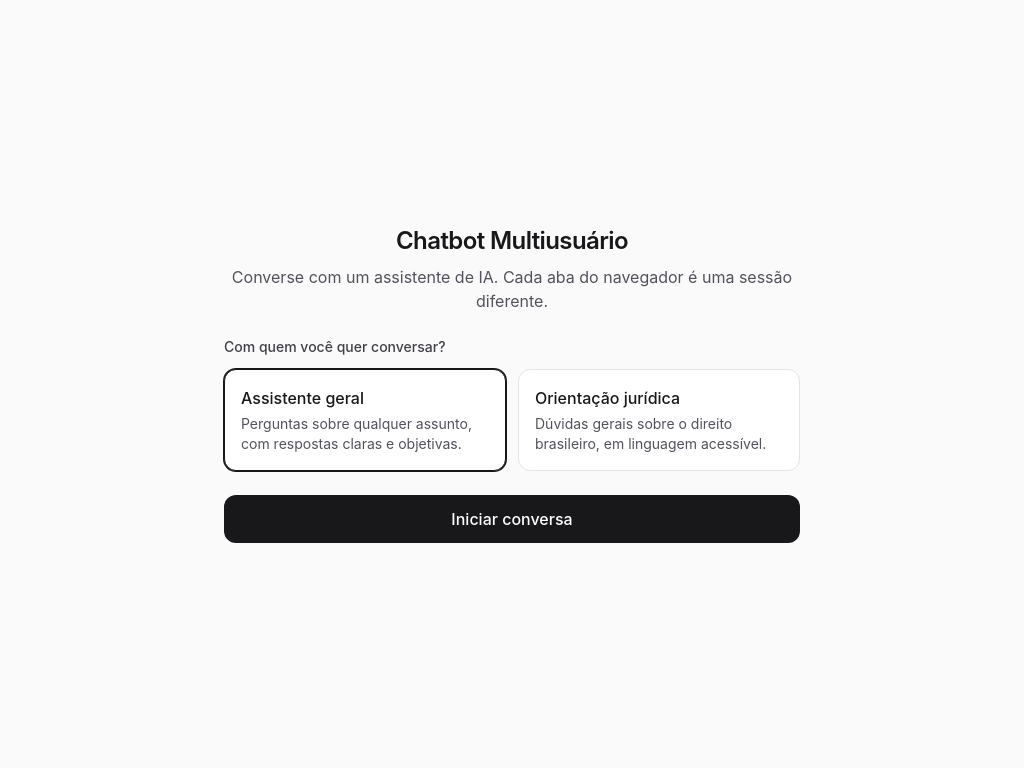
Test: erros e sessão expirada › sessionStorage bloqueado não trava o chat
Click the button "Iniciar conversa" at (512, 519), box [224,495,800,543]
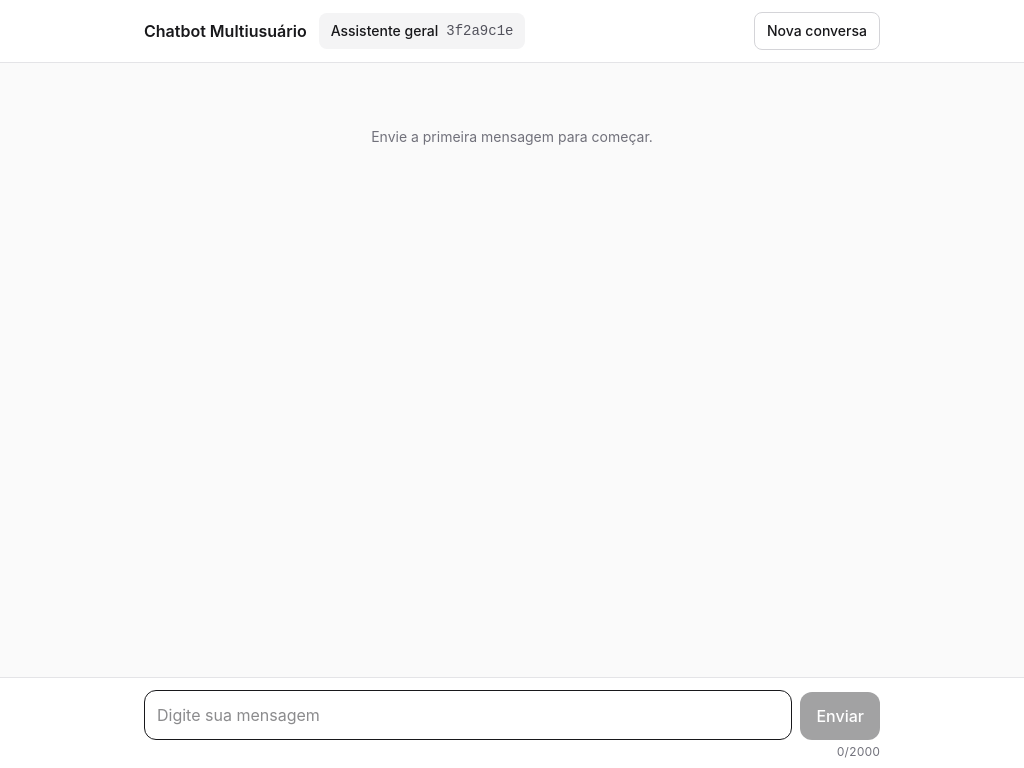
Type "Oi" into the text box labelled "mensagem" at (468, 715), box [144,690,792,740]
Then press Enter
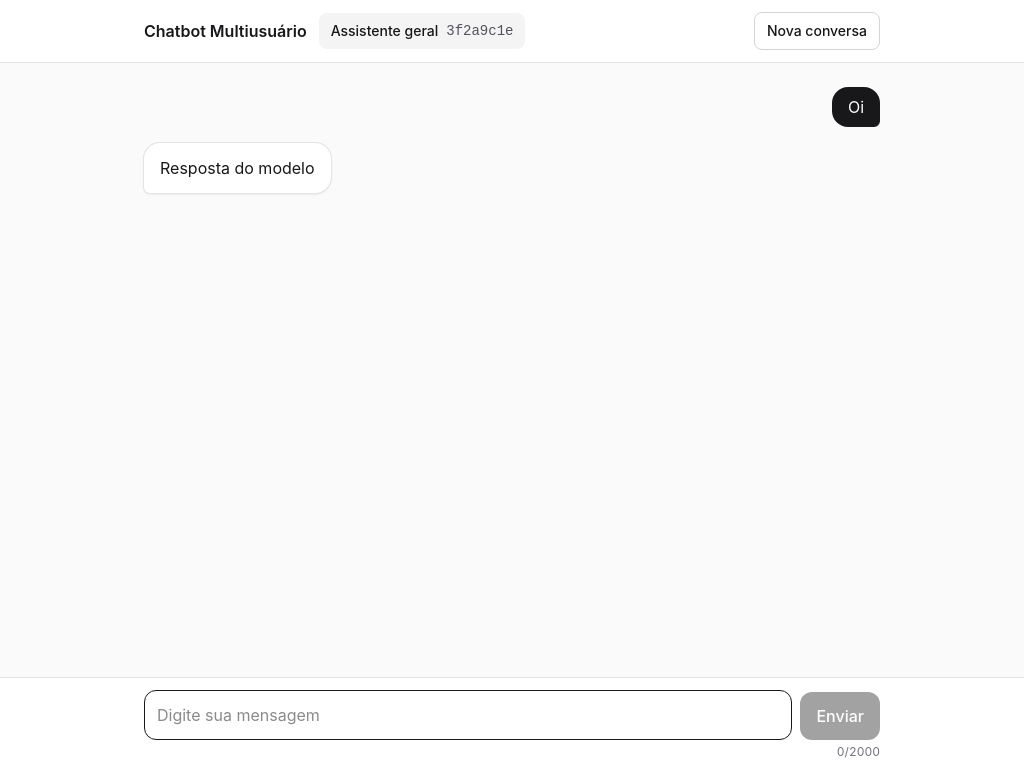
expect the text box labelled "mensagem" is enabled: met, box [144,690,792,740]
expect the text "Resposta do modelo" is shown: met, box [160,155,315,181]
